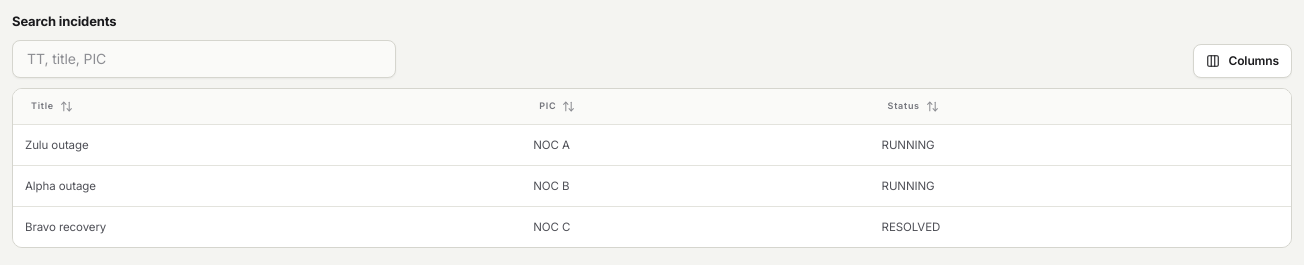
Scenario: MEGA-3 data workspace foundation › filters the shared row model and keeps the same result available to mobile fallback
The width and height of the screenshot is (1304, 265).
In the field labelled "Search incidents": (204, 58) 12,40 -> 396,78, type "Bravo"
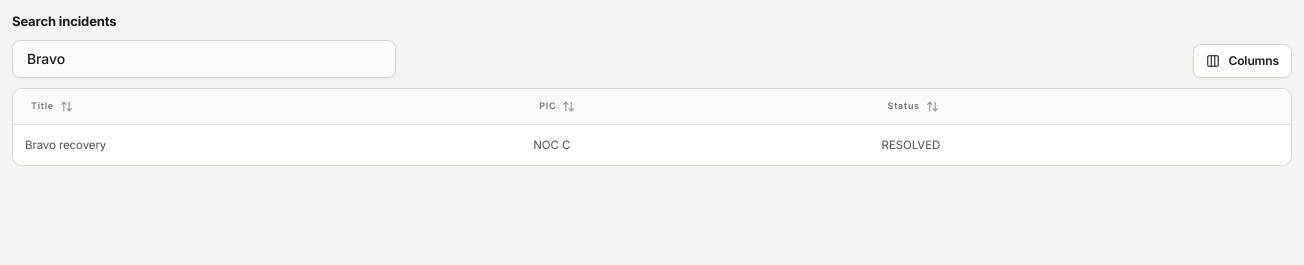
Expected: the text "Bravo recovery" is shown, 13,124 -> 521,165
Expected: the text "Alpha outage" is gone
